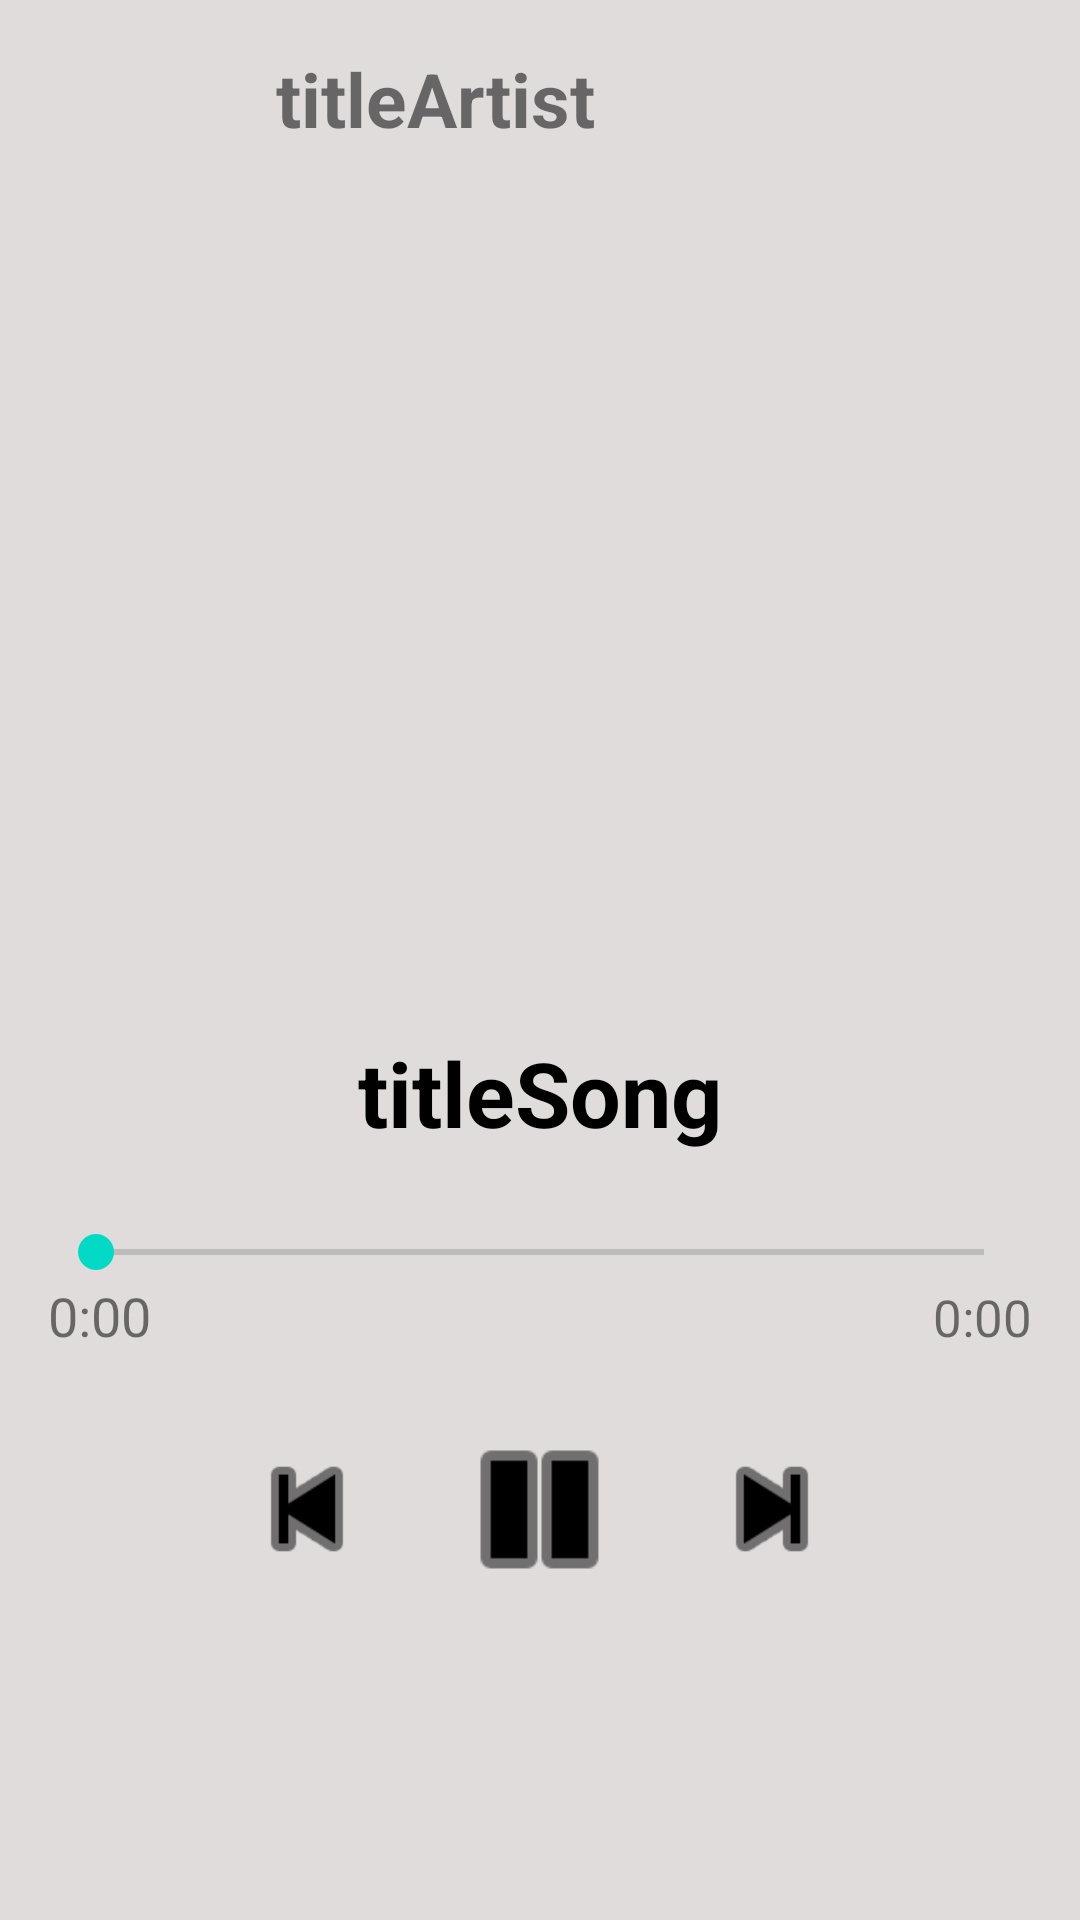

Icon click points for this 1080×1920 phone screenshot, format [x,y]:
next: [772,1509]
pause: [539,1509]
previous: [307,1509]
